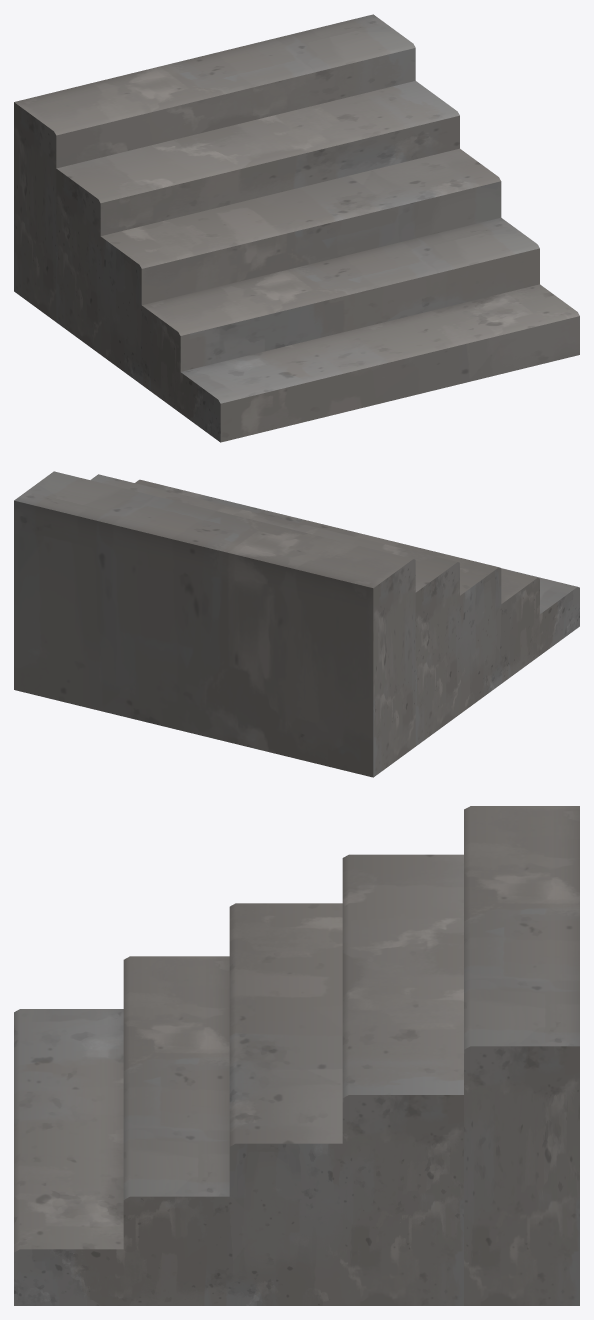
The model's file is Stairs_Entrance_Concrete.gltf.
The picture shows the model from 3 angles, top to bottom: view 1: azimuth 30°, elevation 25°; view 2: azimuth 150°, elevation 25°; view 3: azimuth 270°, elevation 25°; orthographic projection. The views are drawn at different scales.
Parts seen in each view (by area): view 1: Stairs_Entrance_Concrete; view 2: Stairs_Entrance_Concrete; view 3: Stairs_Entrance_Concrete.
Boxes of the visible parts, x1=… form: Stairs_Entrance_Concrete: x1=14, y1=14, x2=579, y2=442; Stairs_Entrance_Concrete: x1=14, y1=471, x2=579, y2=777; Stairs_Entrance_Concrete: x1=14, y1=806, x2=579, y2=1305.
Bounding box in the file's own units: 2 × 1.01 × 1.99.
Materials: 2 (2 with a texture image).
